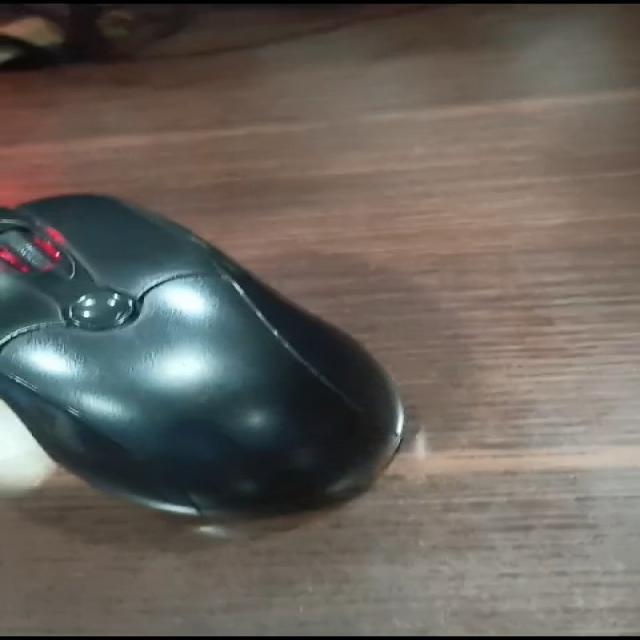mouse: (0, 160, 470, 546)
